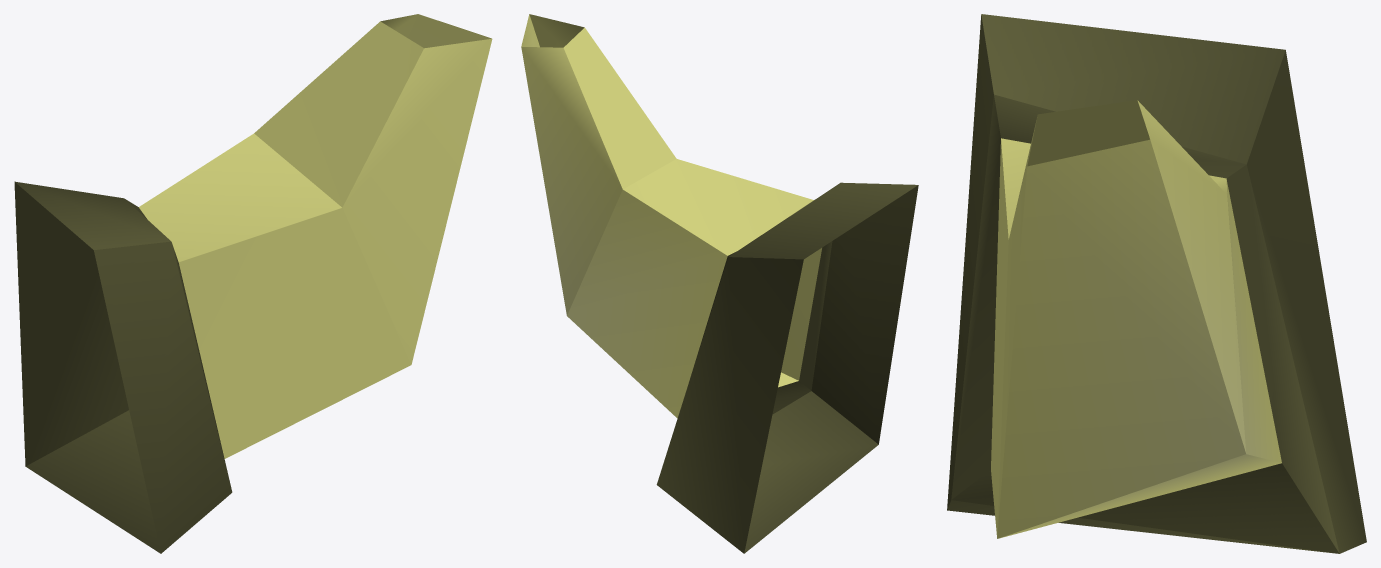
The model's file is c_tower_attachment_aa.fbx.
3 renders of one model, left to right at view 1: azimuth 30°, elevation 25°; view 2: azimuth 150°, elevation 25°; view 3: azimuth 270°, elevation 25°, orthographic. The views are drawn at different scales.
Parts seen in each view (by area): view 1: c_tower_attachment_aa; view 2: c_tower_attachment_aa; view 3: c_tower_attachment_aa.
Boxes of the visible parts, <box> form: c_tower_attachment_aa: <box>14,14,492,553</box>; c_tower_attachment_aa: <box>521,14,918,553</box>; c_tower_attachment_aa: <box>947,14,1366,553</box>.
Bounding box in the file's own units: 5.88 × 5.89 × 3.49.
